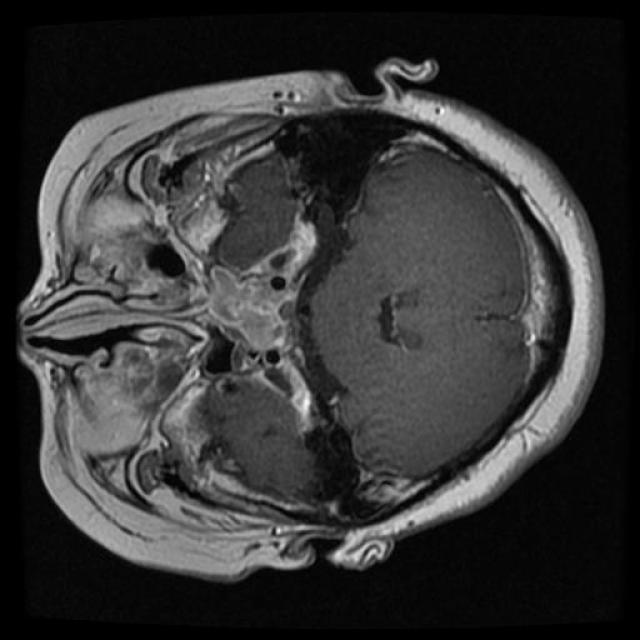Pituitary: (214, 205, 336, 433)
